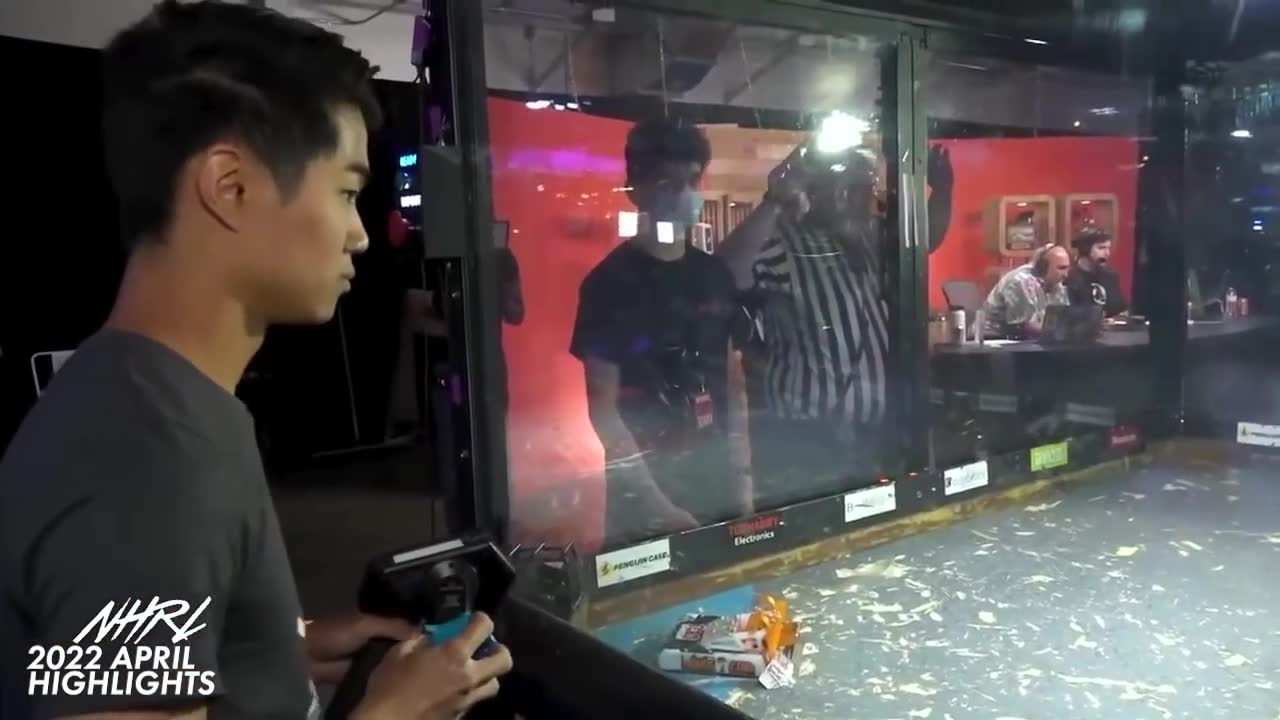combatbot: (659, 588, 802, 688)
